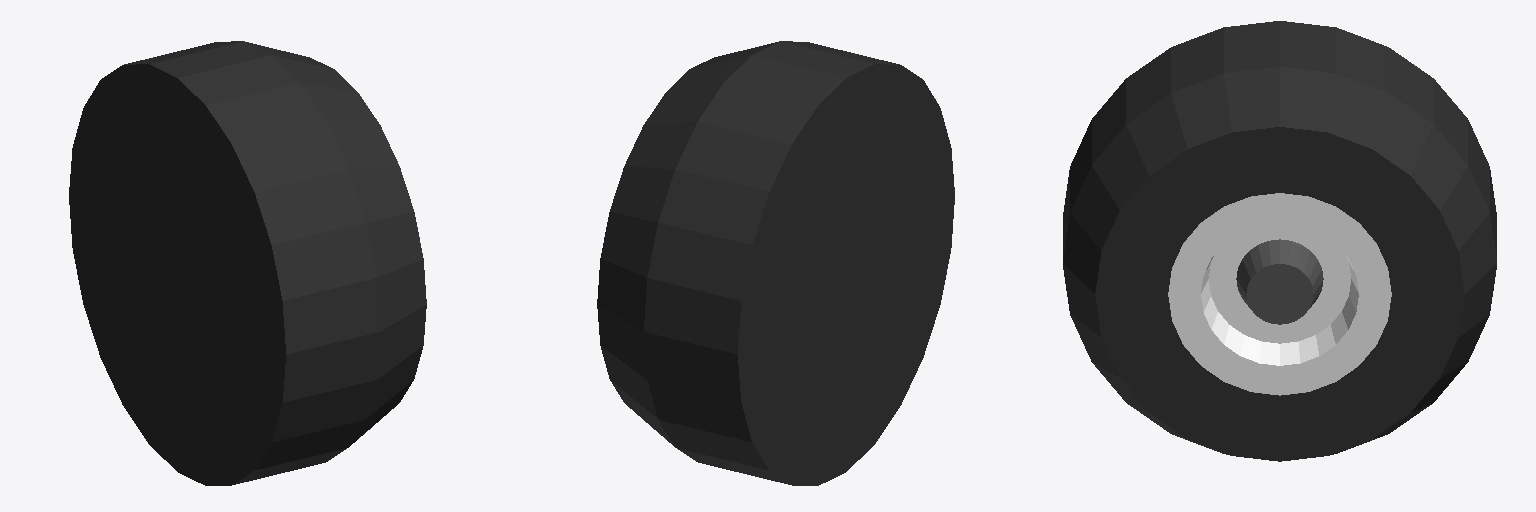
Rendered from wheelTruck.obj.
3 renders of one model, left to right at view 1: azimuth 30°, elevation 25°; view 2: azimuth 150°, elevation 25°; view 3: azimuth 270°, elevation 25°, orthographic.
Visible parts, largest first — view 1: wheelTruck; view 2: wheelTruck; view 3: wheelTruck.
Boxes of the visible parts, x1=… form: wheelTruck: x1=69, y1=41, x2=426, y2=485; wheelTruck: x1=597, y1=41, x2=954, y2=485; wheelTruck: x1=1063, y1=21, x2=1496, y2=461.
Size of the model in its own units: 0.25 by 0.6 by 0.6.